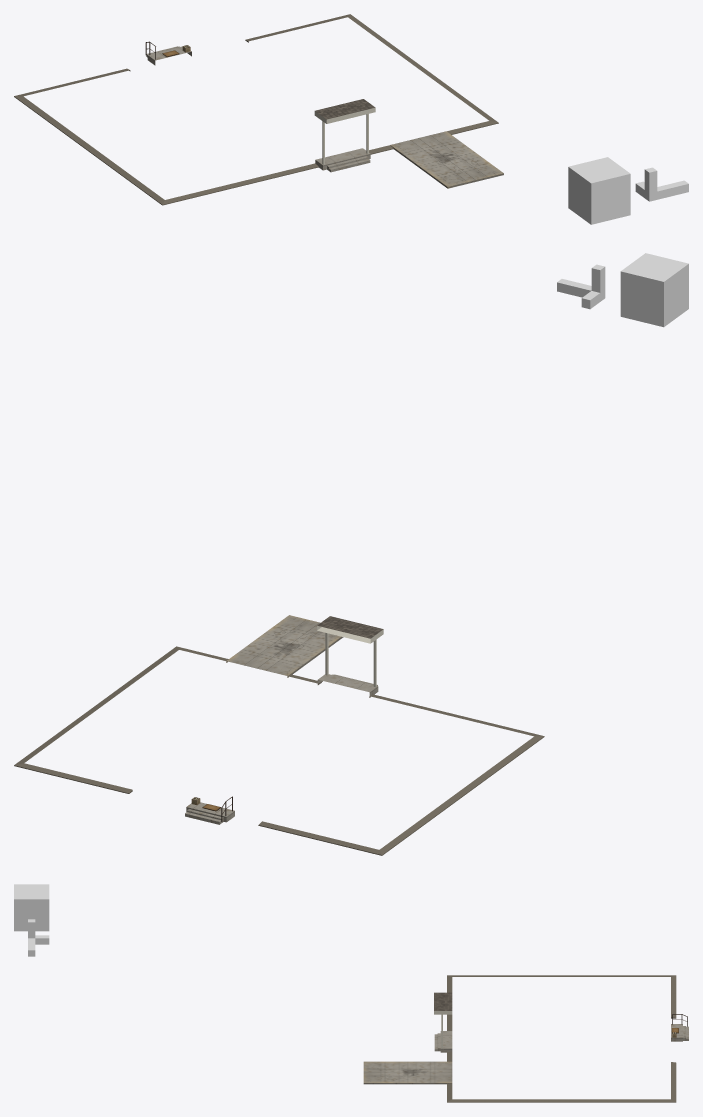
The model's file is X_Near.fbx.
The picture shows the model from 3 angles, top to bottom: view 1: azimuth 30°, elevation 25°; view 2: azimuth 150°, elevation 25°; view 3: azimuth 270°, elevation 25°; orthographic projection. The views are drawn at different scales.
Parts seen in each view (by area): view 1: X_FoundationStrip_Gravel65, K_ScaleCube, X_Driveway, K_Marker, X_PorchFront_Concrete65, X_PorchFront_Shingle, X_PorchFront_TrimWhite; view 2: X_FoundationStrip_Gravel65, K_ScaleCube, X_Driveway, K_Marker; view 3: X_FoundationStrip_Gravel65, X_Driveway, K_ScaleCube, K_Marker, X_PorchFront_Concrete65, X_PorchFront_Shingle.
Boxes of the visible parts, bbox=[...] form: X_FoundationStrip_Gravel65: bbox=[14, 14, 498, 205]; K_ScaleCube: bbox=[568, 157, 630, 224]; X_Driveway: bbox=[390, 131, 503, 188]; K_Marker: bbox=[635, 167, 688, 201]; X_PorchFront_Concrete65: bbox=[315, 148, 370, 172]; X_PorchFront_Shingle: bbox=[315, 99, 375, 119]; X_PorchFront_TrimWhite: bbox=[314, 107, 375, 164]; X_FoundationStrip_Gravel65: bbox=[14, 646, 544, 855]; K_ScaleCube: bbox=[620, 253, 688, 327]; X_Driveway: bbox=[226, 615, 343, 677]; K_Marker: bbox=[557, 264, 605, 309]; X_FoundationStrip_Gravel65: bbox=[447, 975, 676, 1102]; X_Driveway: bbox=[363, 1061, 452, 1084]; K_ScaleCube: bbox=[14, 884, 49, 931]; K_Marker: bbox=[28, 919, 49, 956]; X_PorchFront_Concrete65: bbox=[434, 1031, 452, 1052]; X_PorchFront_Shingle: bbox=[434, 992, 452, 1010].
Bounding box in the file's own units: 8490 × 4610 × 19100.
Materials: 6 (5 with a texture image).
